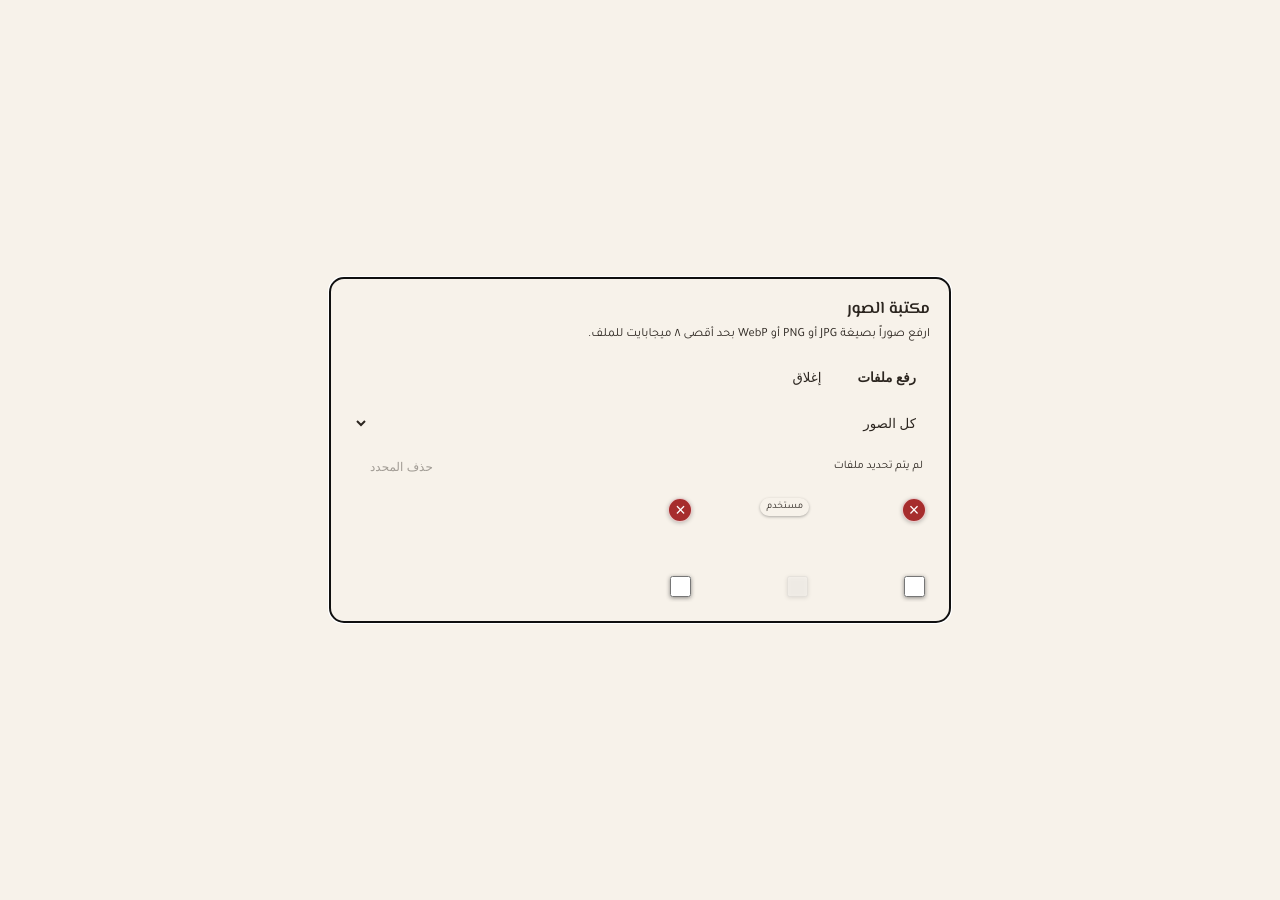
Scenario: AssetLibrary — delete › «select all» only exists for unused images and never selects in-use ones
Expected: the button "تحديد الكل" is not shown
Select "كل الصور" in the dropdown named "فلترة الصور" at (642, 423), box [354,407,930,440]
Expected: the button "تحديد الكل" is not shown
Select "غير المستخدمة" in the dropdown named "فلترة الصور" at (642, 423), box [354,407,930,440]
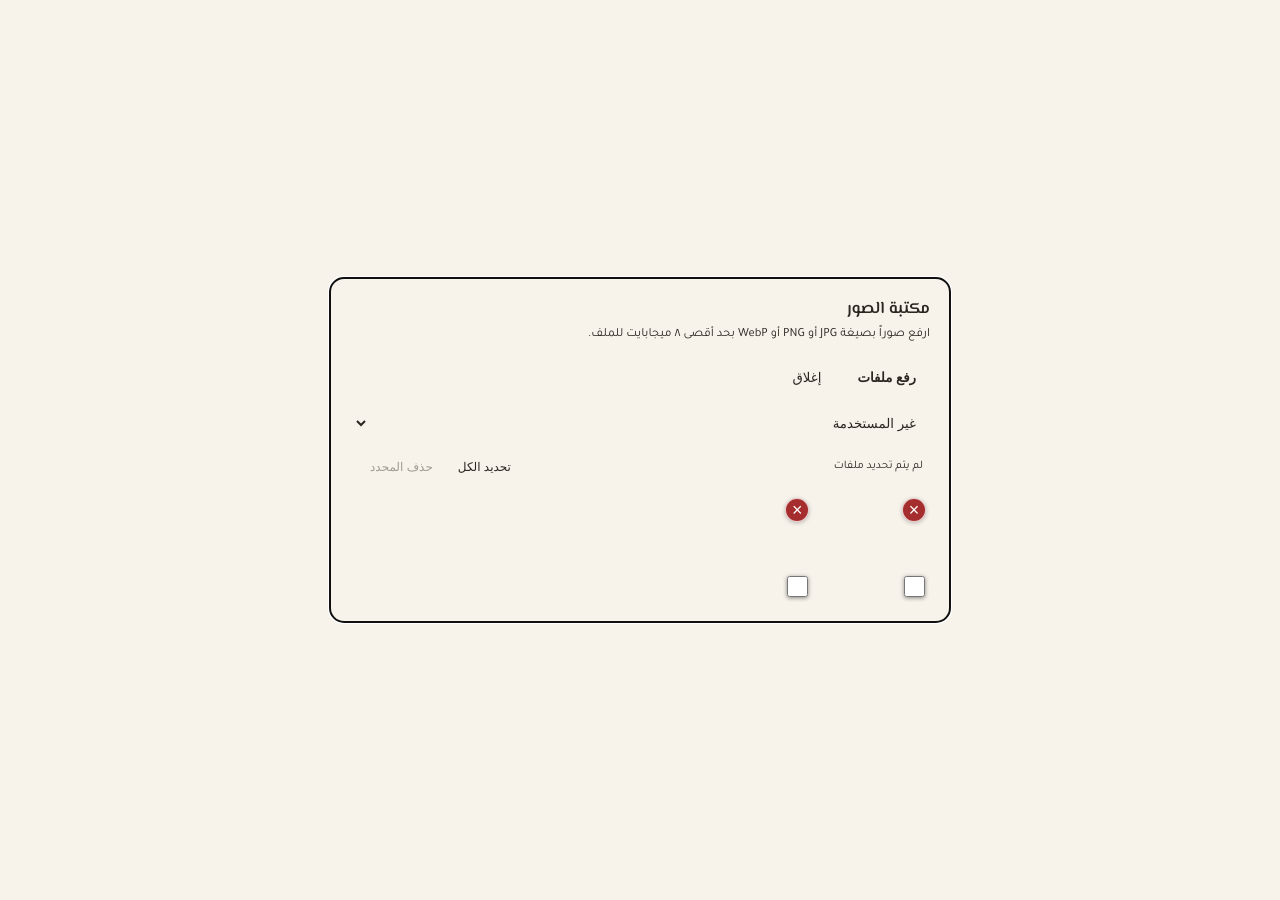
Click the button "تحديد الكل" at (484, 467), box [449,455,520,479]
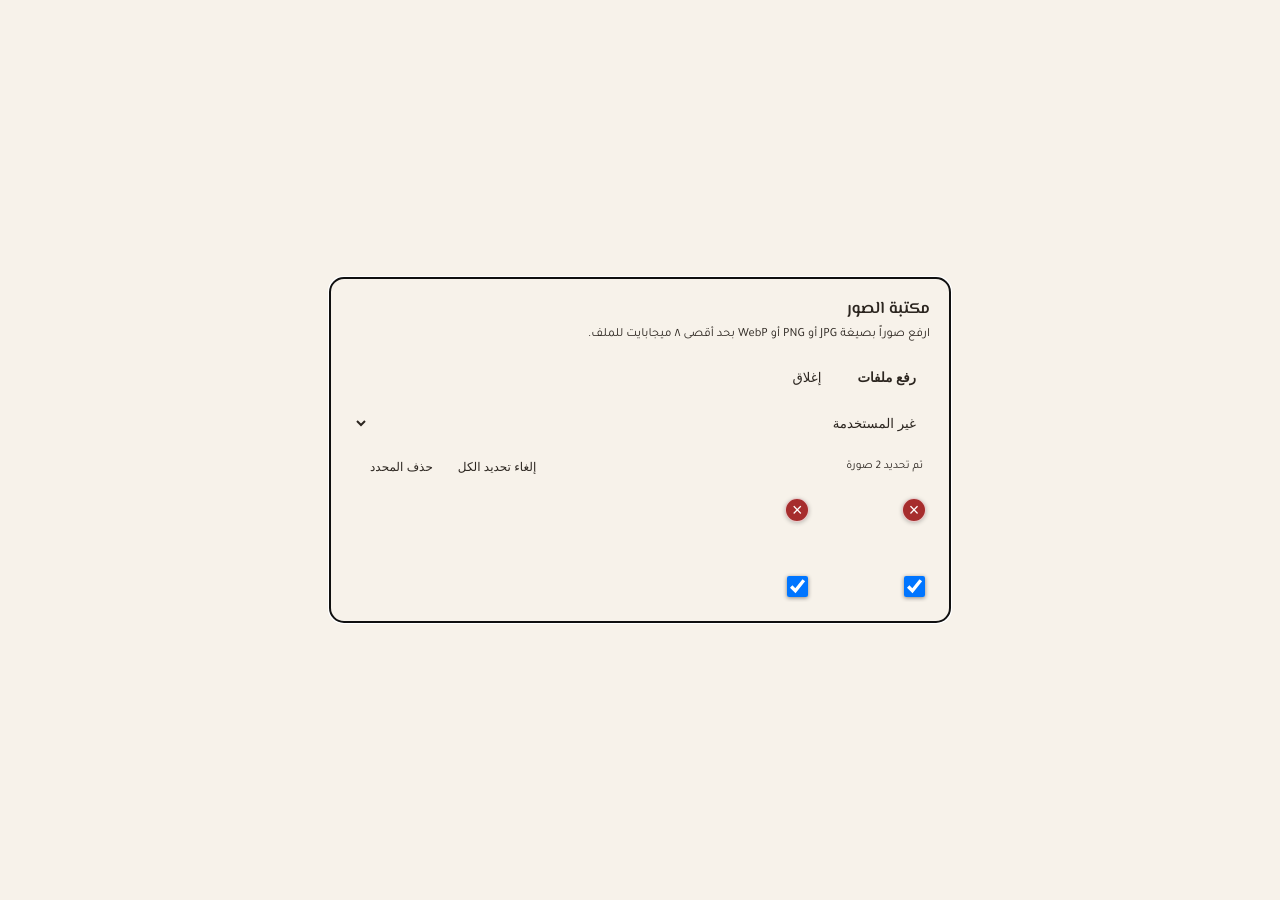
Expected: the text "تم تحديد 2 صورة" is shown, [846,460,923,472]
Click the button "إلغاء تحديد الكل" at (497, 467), box [449,455,545,479]
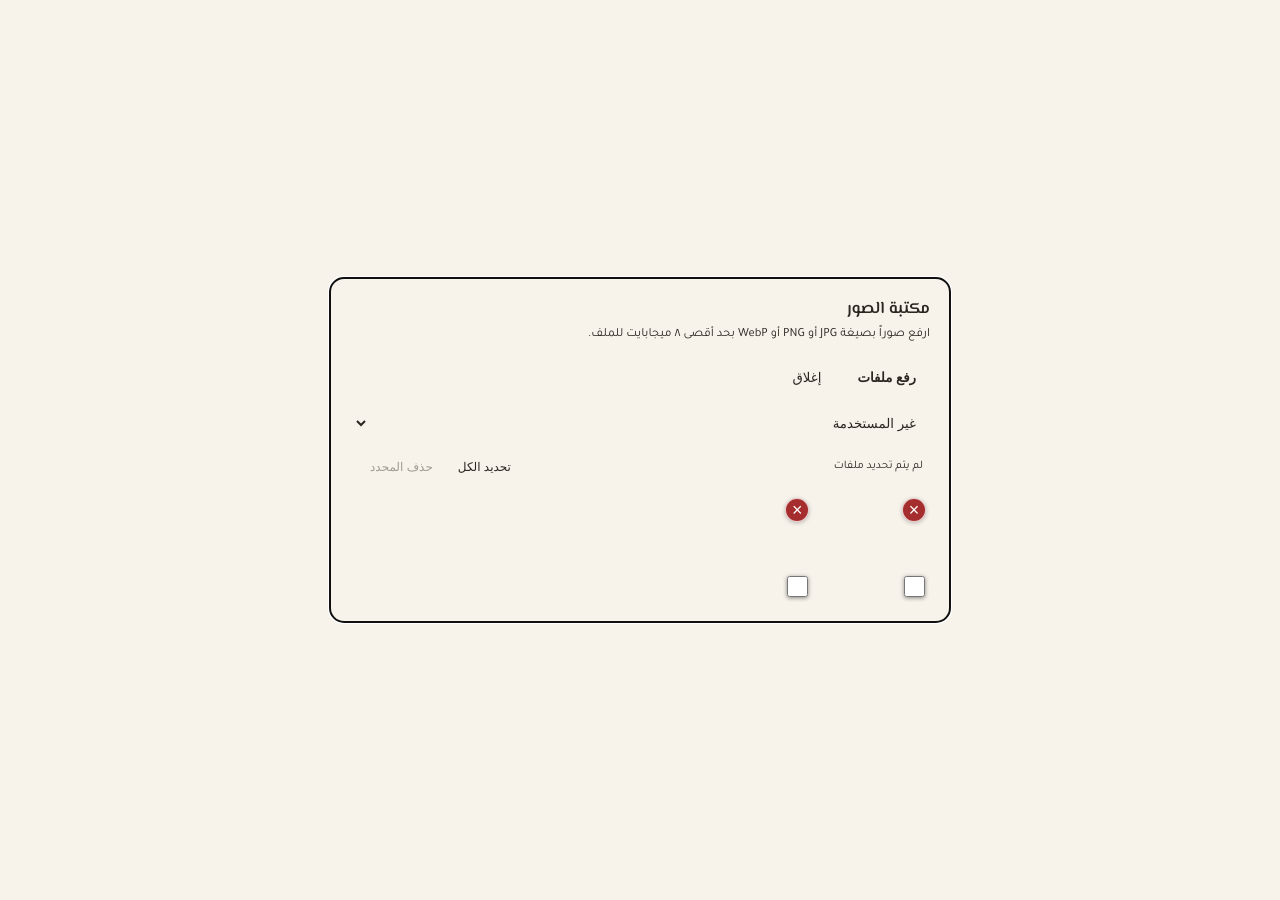
Expected: the text "لم يتم تحديد ملفات" is shown, [834,460,923,472]
